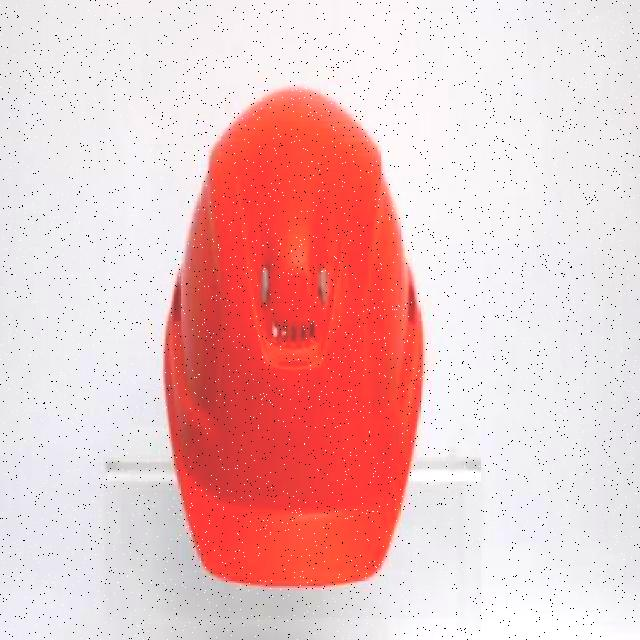Helmet: (162, 85, 426, 593)
